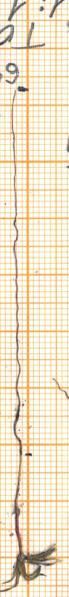flower: (2, 541, 69, 597)
root: (2, 82, 32, 450)
stem: (8, 449, 34, 548)
